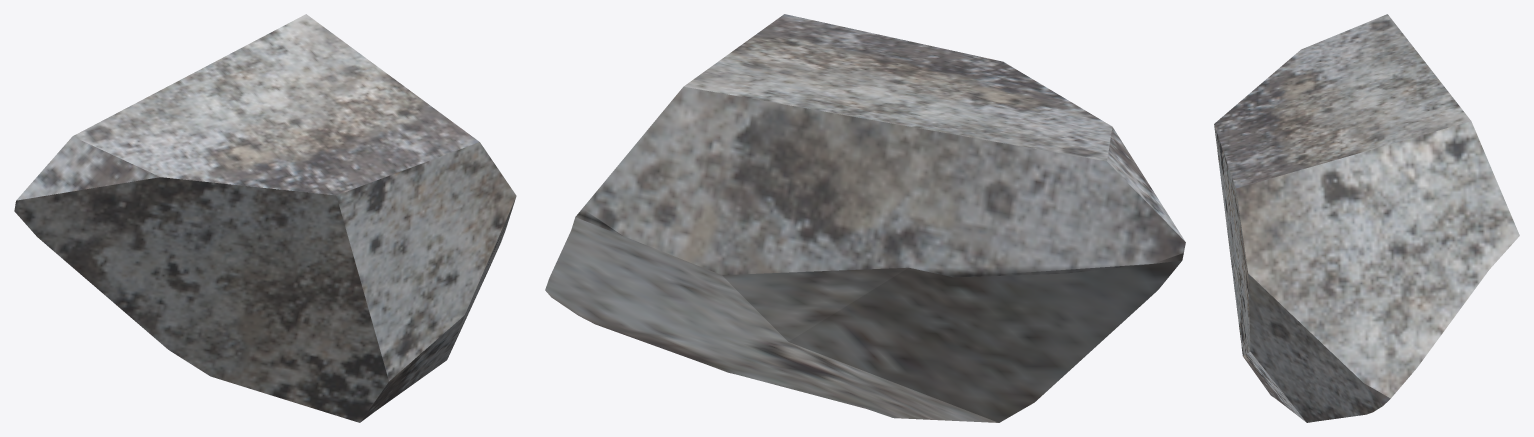
Rendered from Asteroid_Medium_001_02_003_03_008.fbx.
The picture shows the model from 3 angles, left to right: view 1: azimuth 30°, elevation 25°; view 2: azimuth 150°, elevation 25°; view 3: azimuth 270°, elevation 25°; orthographic projection. The views are drawn at different scales.
Visible parts, largest first — view 1: Asteroid_Medium_001_02_003_03_008; view 2: Asteroid_Medium_001_02_003_03_008; view 3: Asteroid_Medium_001_02_003_03_008.
Boxes of the visible parts, bbox=[...] form: Asteroid_Medium_001_02_003_03_008: bbox=[14, 14, 516, 422]; Asteroid_Medium_001_02_003_03_008: bbox=[545, 14, 1185, 422]; Asteroid_Medium_001_02_003_03_008: bbox=[1214, 14, 1519, 422].
Bounding box in the file's own units: 9.56 × 5.99 × 5.56.
